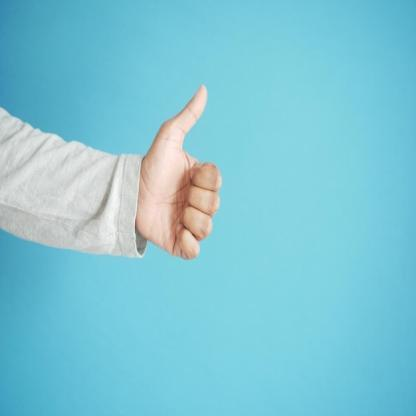thumb_up: (138, 80, 226, 260)
